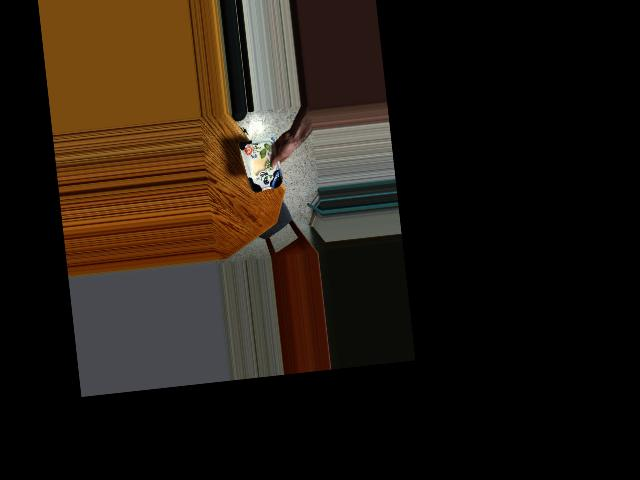cheese: (237, 135, 289, 192)
